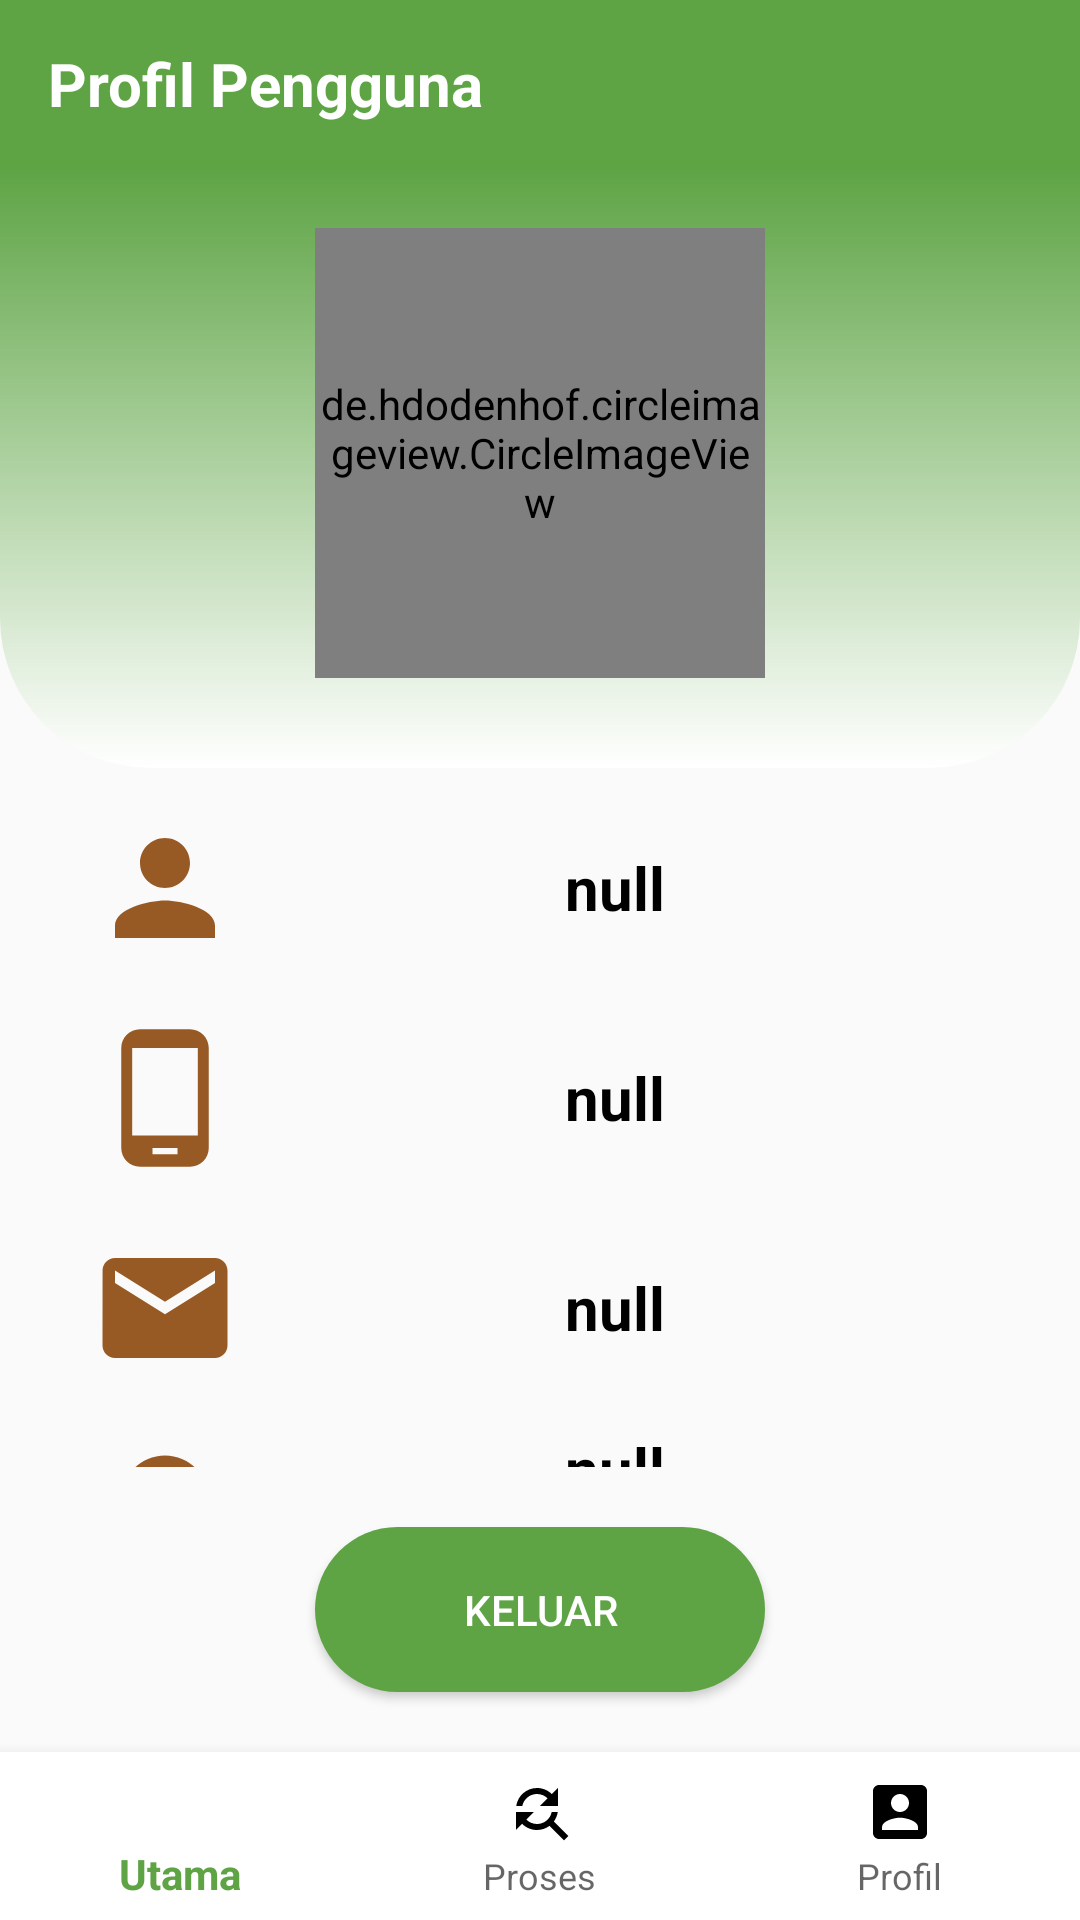

Screen size 1080 × 1920. Icon name, then its center in pixels as (x,y):
mail: (165,1308)
person: (165,888)
phone: (165,1098)
